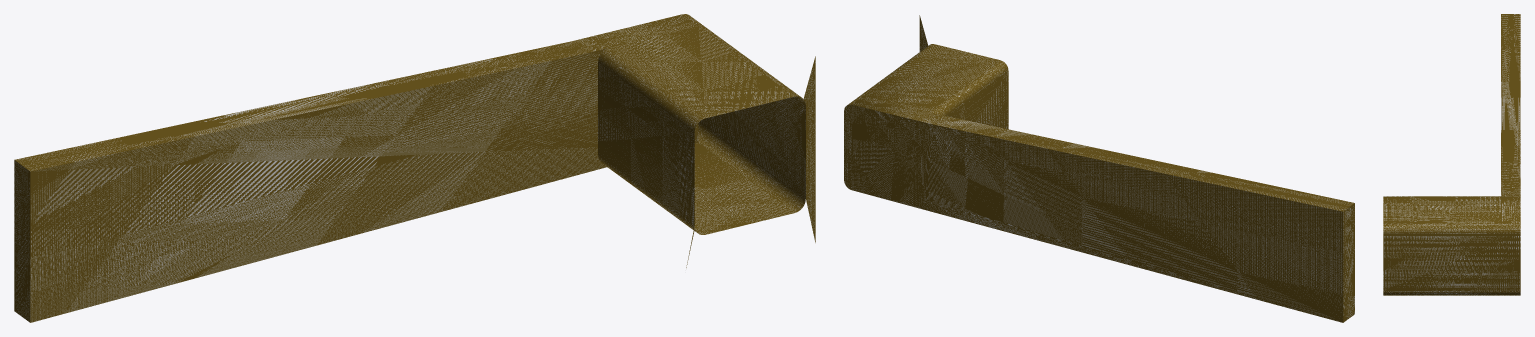
The picture shows the model from 3 angles, left to right: view 1: azimuth 30°, elevation 25°; view 2: azimuth 150°, elevation 25°; view 3: azimuth 270°, elevation 25°; orthographic projection. The views are drawn at different scales.
Size of the model in its own units: 0.1125 by 0.0294 by 0.0318.
